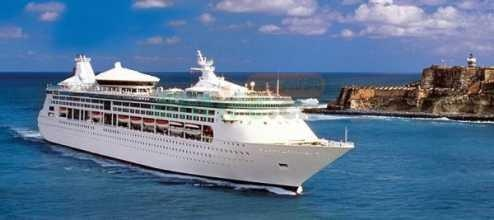youlun: (38, 42, 357, 194)
